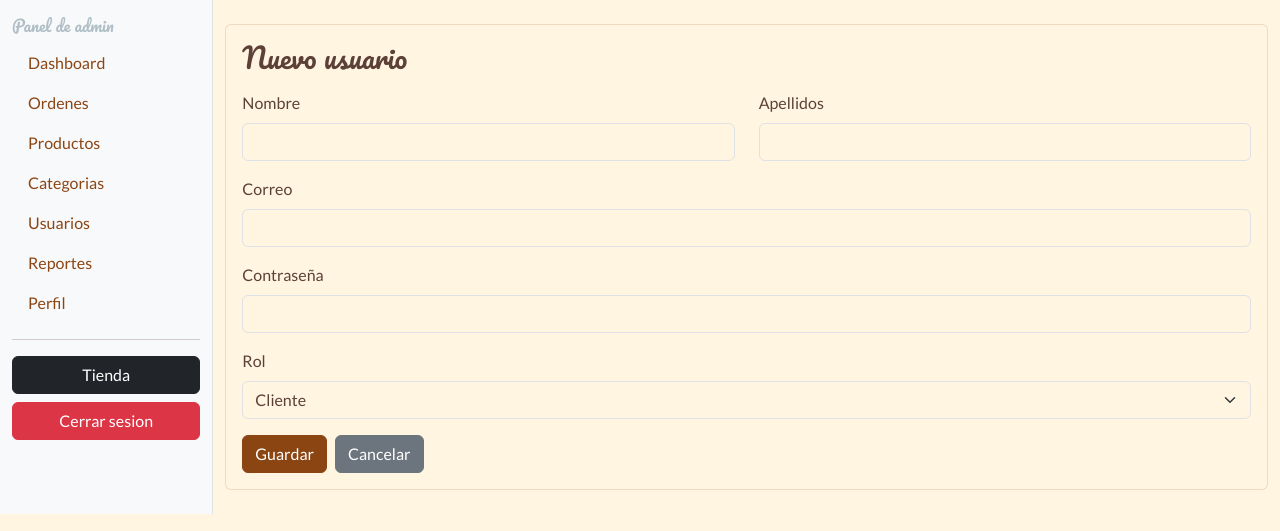
Test: Panel de admin › crea un usuario nuevo desde el formulario
Type "Luis" into the field labelled "Nombre". click: (488, 142)
box: [242,123,735,161]
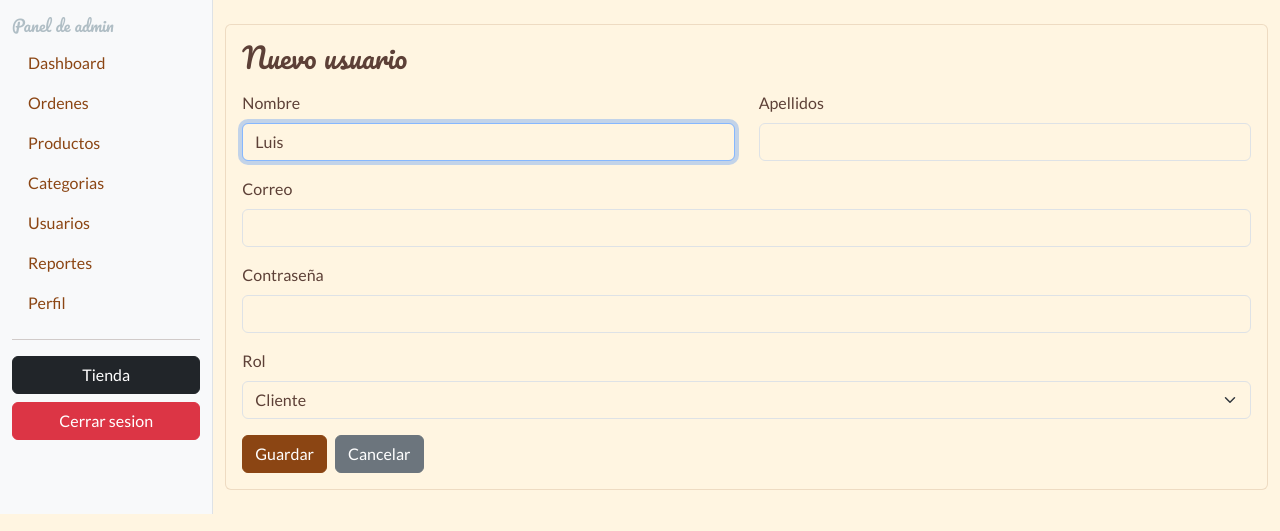
Type "luis@duoc.cl" into the field labelled "Correo". click: (747, 228)
box: [242,209,1251,247]
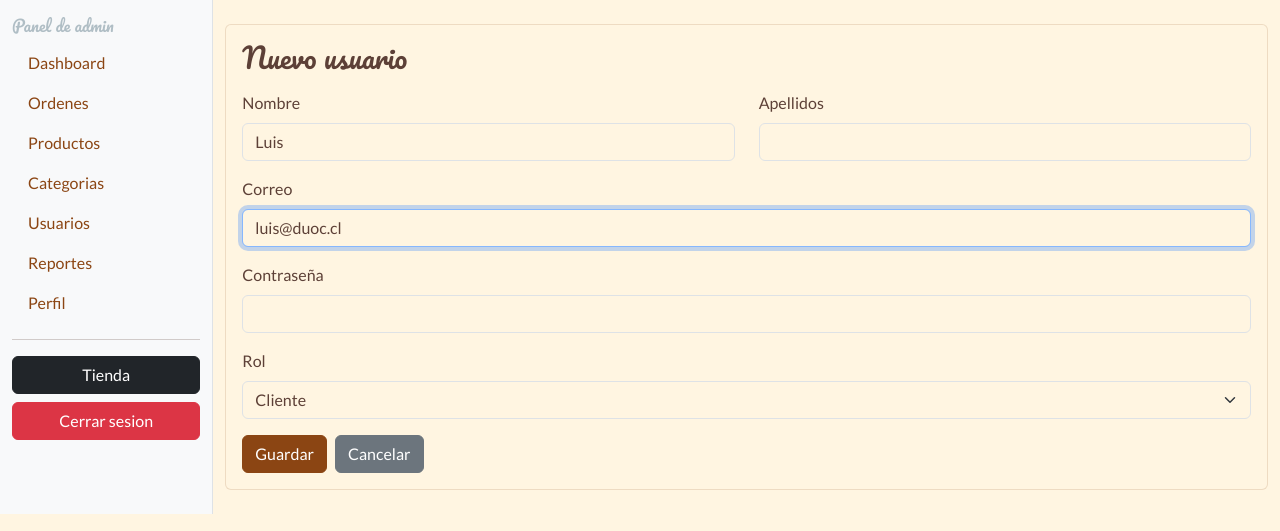
Type "abcd" into the password field labelled "Contraseña". click: (747, 314)
box: [242,295,1251,333]
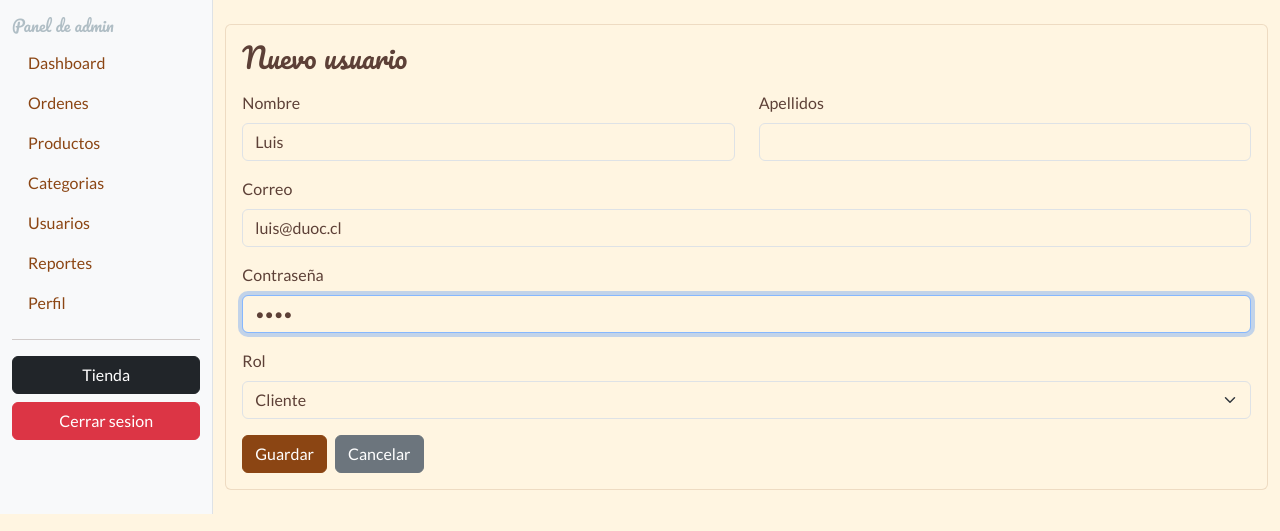
Click the button "Guardar". click: (285, 454)
box: [242,435,327,473]
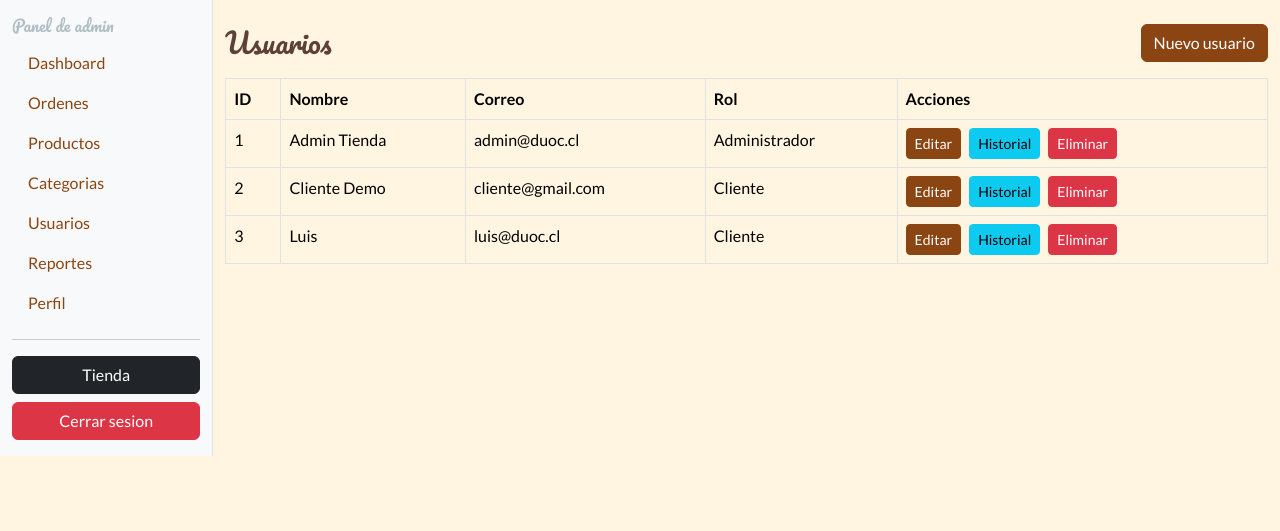
Result: the text "luis@duoc.cl" is shown at [465,216,705,264]
